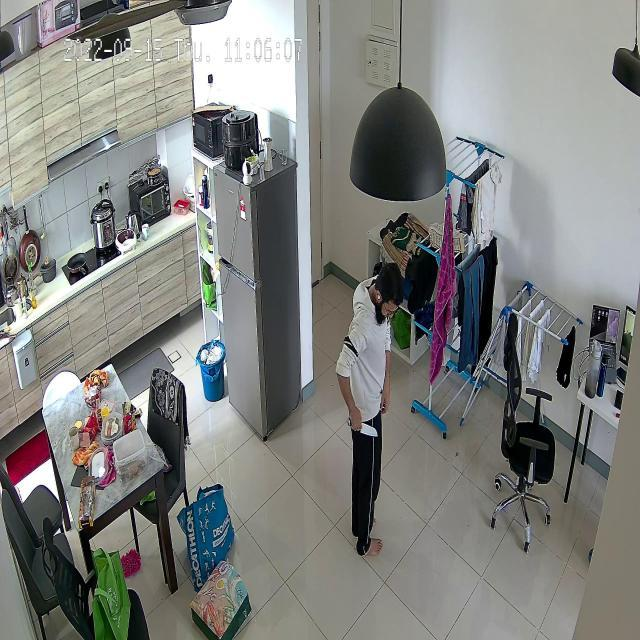Knife: (328, 408, 384, 448)
